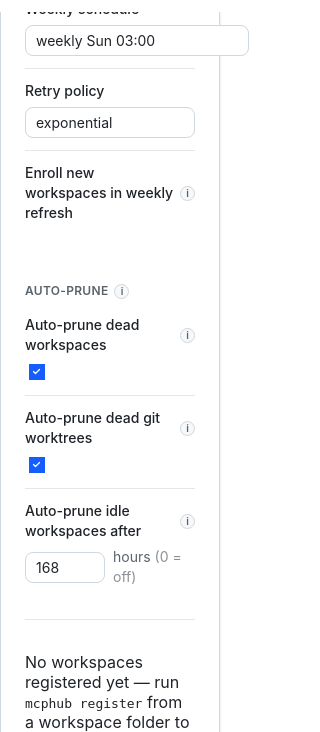
it: SectionDaemons (editable, A4-b PR #1 / Task 11) › renders the auto-prune master toggle (checked by default) and Save enables on toggle
(page scrolled)
Click the checkbox with test id "daemons-auto-prune-workspaces-checkbox" at (37, 372), box [29, 364, 45, 380]
(page scrolled)
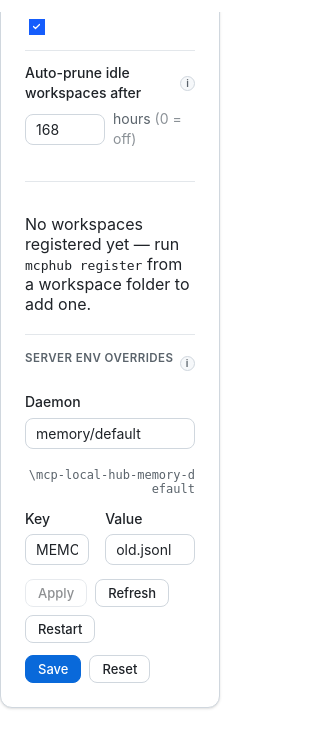
Now the button with test id "daemons-save" is enabled, box [25, 655, 81, 683]
